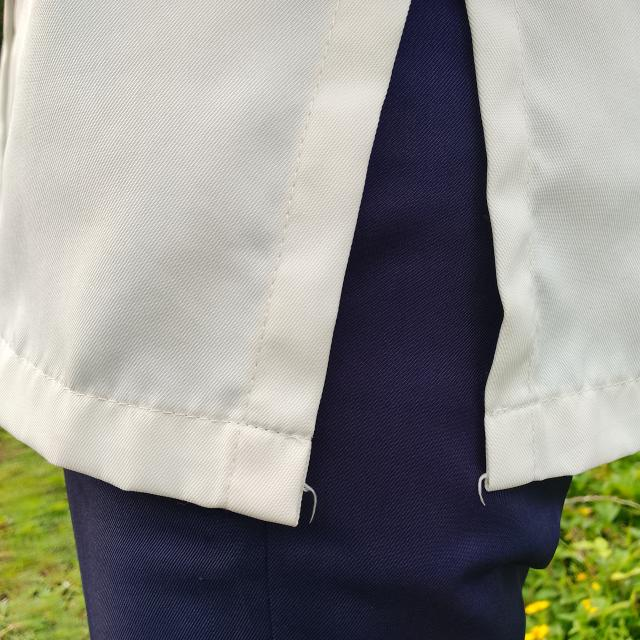education_male_uniform: (2, 10, 640, 562)
